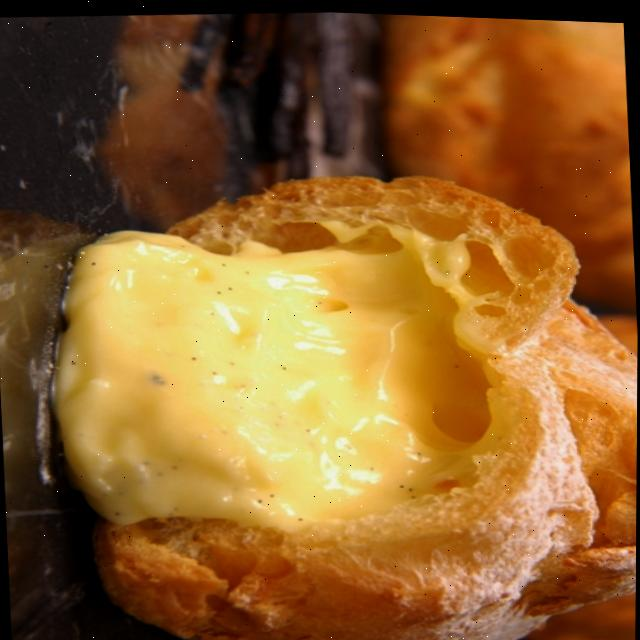炸货点心: (11, 138, 639, 640)
蛋糕甜品: (11, 138, 639, 640)
